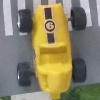carro: (17, 5, 86, 100)
